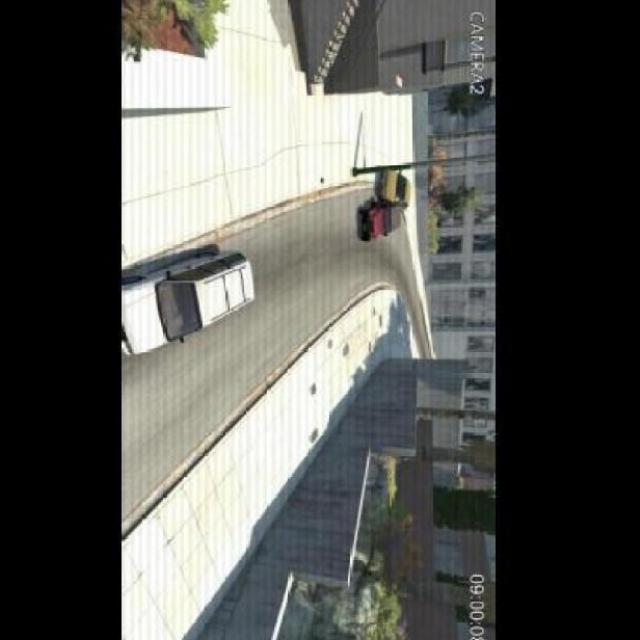accident: (369, 184, 411, 236)
